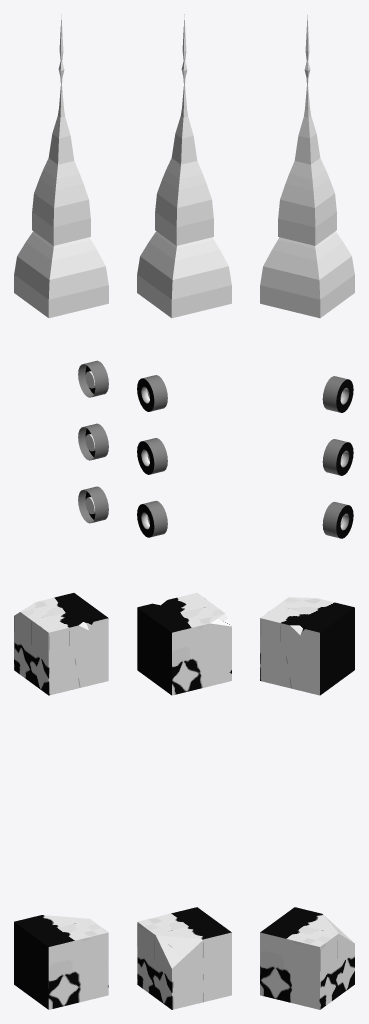
File: lowerTowerMoverOffset.fbx
3 views of the same model, side by side, from view 1: azimuth 30°, elevation 25°; view 2: azimuth 210°, elevation 25°; view 3: azimuth 330°, elevation 25° (orthographic).
Parts seen in each view (by area): view 1: Chipped_Cube3, Chipped_Cube4, MV1Rooftop_J (3), MV1Rooftop_J (7), GripNub grey (3), GripNub grey (2), GripNub grey (1), GripNub, GripNub (1), GripNub (2); view 2: Chipped_Cube4, Chipped_Cube3, MV1Rooftop_J (3), MV1Rooftop_J (7), GripNub (2), GripNub, GripNub (1); view 3: Chipped_Cube3, Chipped_Cube4, MV1Rooftop_J (3), MV1Rooftop_J (7), GripNub, GripNub (2), GripNub (1).
Boxes of the visible parts, left/top/right/bottom form: Chipped_Cube3: left=14, top=593, right=108, bottom=695; Chipped_Cube4: left=14, top=915, right=108, bottom=1009; MV1Rooftop_J (3): left=14, top=84, right=108, bottom=318; MV1Rooftop_J (7): left=32, top=14, right=90, bottom=245; GripNub grey (3): left=78, top=362, right=102, bottom=397; GripNub grey (2): left=78, top=488, right=102, bottom=523; GripNub grey (1): left=78, top=426, right=102, bottom=460; GripNub: left=81, top=423, right=108, bottom=459; GripNub (1): left=81, top=486, right=108, bottom=522; GripNub (2): left=81, top=360, right=108, bottom=396; Chipped_Cube4: left=137, top=907, right=231, bottom=1009; Chipped_Cube3: left=137, top=593, right=231, bottom=695; MV1Rooftop_J (3): left=137, top=84, right=231, bottom=318; MV1Rooftop_J (7): left=155, top=14, right=213, bottom=245; GripNub (2): left=137, top=376, right=164, bottom=411; GripNub: left=137, top=438, right=164, bottom=474; GripNub (1): left=137, top=501, right=164, bottom=537; Chipped_Cube3: left=260, top=597, right=354, bottom=695; Chipped_Cube4: left=260, top=907, right=354, bottom=1009; MV1Rooftop_J (3): left=260, top=84, right=354, bottom=318; MV1Rooftop_J (7): left=278, top=15, right=336, bottom=245; GripNub: left=325, top=439, right=353, bottom=475; GripNub (2): left=325, top=376, right=353, bottom=412; GripNub (1): left=326, top=502, right=353, bottom=538.
Size of the model in its own units: 1.14 by 15.52 by 1.
